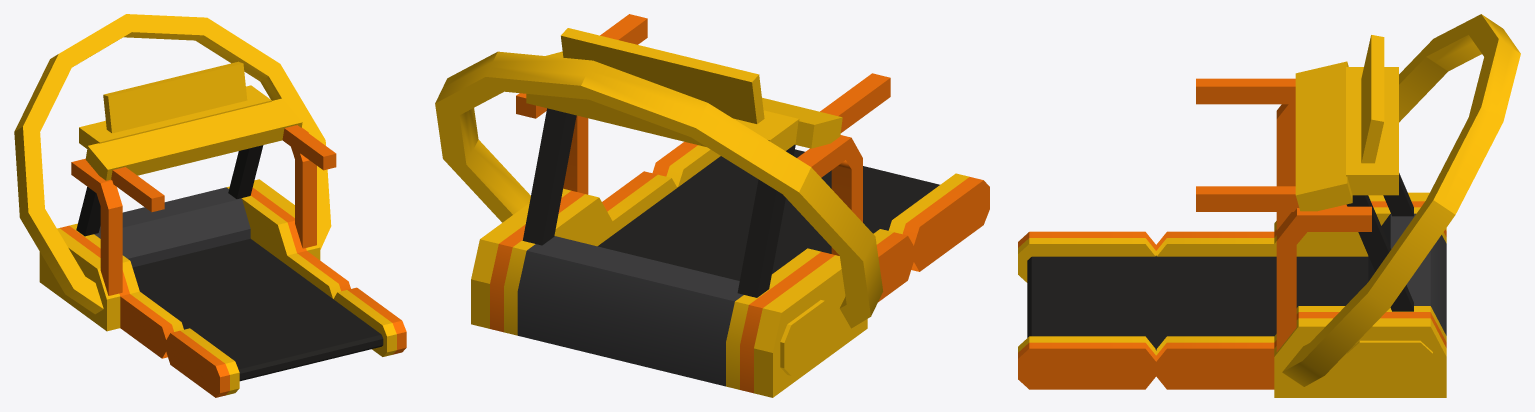
The model's file is 4.Celebrity_Treadmill.fbx.
The picture shows the model from 3 angles, left to right: view 1: azimuth 30°, elevation 25°; view 2: azimuth 150°, elevation 25°; view 3: azimuth 270°, elevation 25°; orthographic projection. The views are drawn at different scales.
Parts seen in each view (by area): view 1: Celebrity_Treadmill; view 2: Celebrity_Treadmill; view 3: Celebrity_Treadmill.
Part boxes in pixels (x1,y1,x2,y2): Celebrity_Treadmill: (14,14,406,397); Celebrity_Treadmill: (435,14,989,397); Celebrity_Treadmill: (1018,14,1520,397).
Size of the model in its own units: 14.45 by 10.56 by 16.49.
